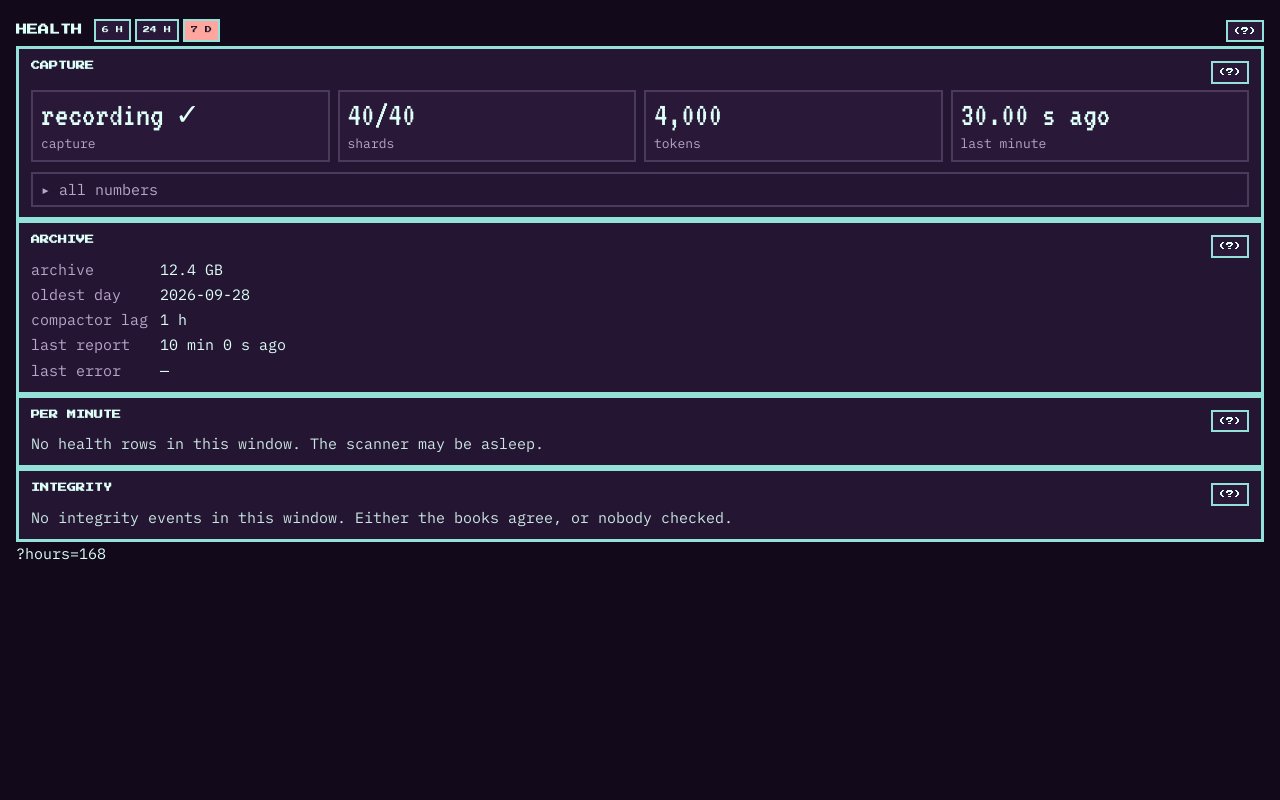
it: Health › keeps the window in the URL
Expected: the text "No health rows in this window. The scanner may be asleep." is shown, [31,434,544,453]
Click the button "6 H". click: coordinates (112, 30)
box: [94,19,131,42]
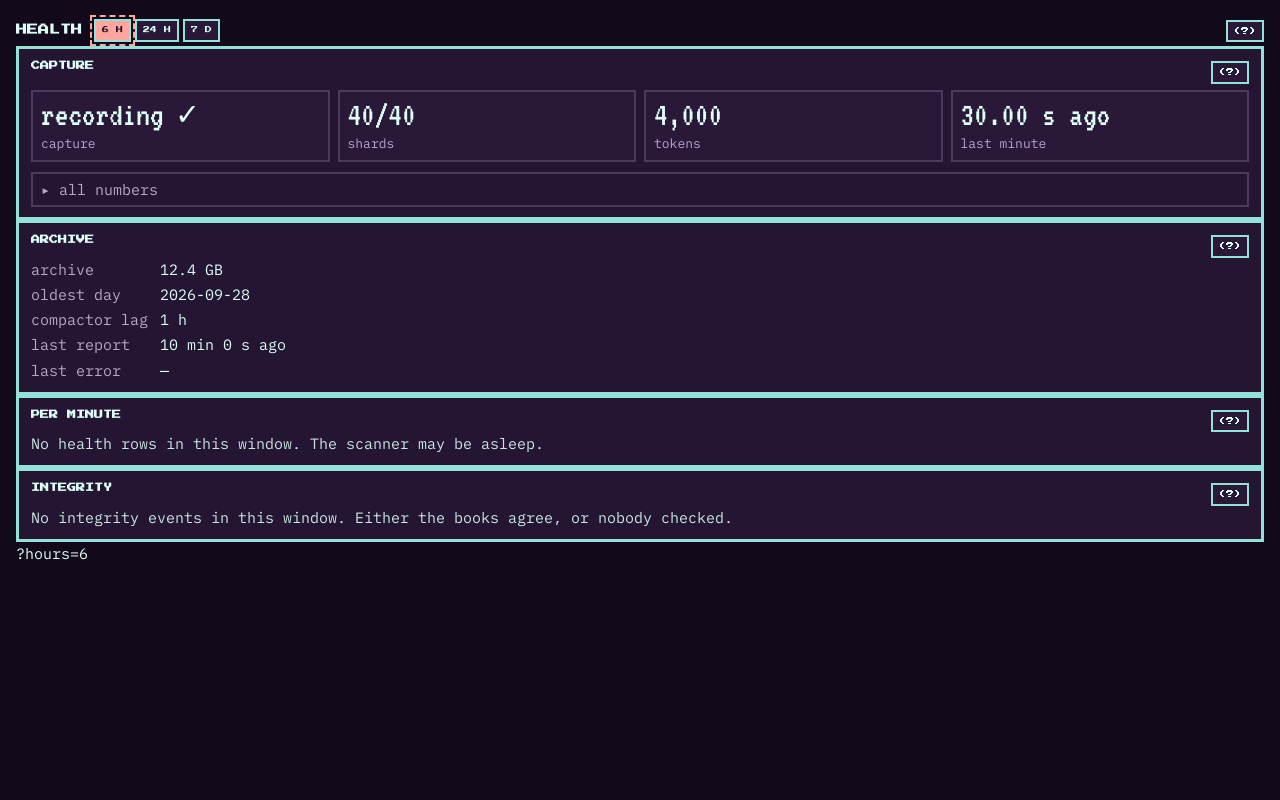
Expected: the text with test id "loc" reads "?hours=6", [16,544,88,563]
